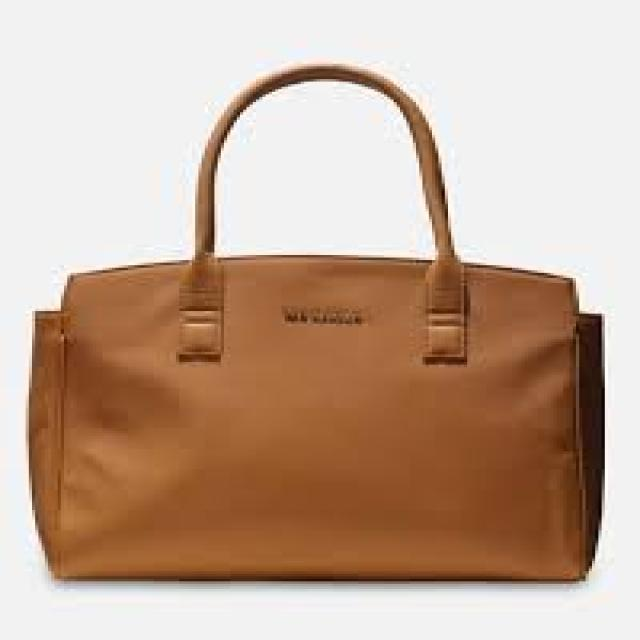handbag: (26, 61, 604, 582)
